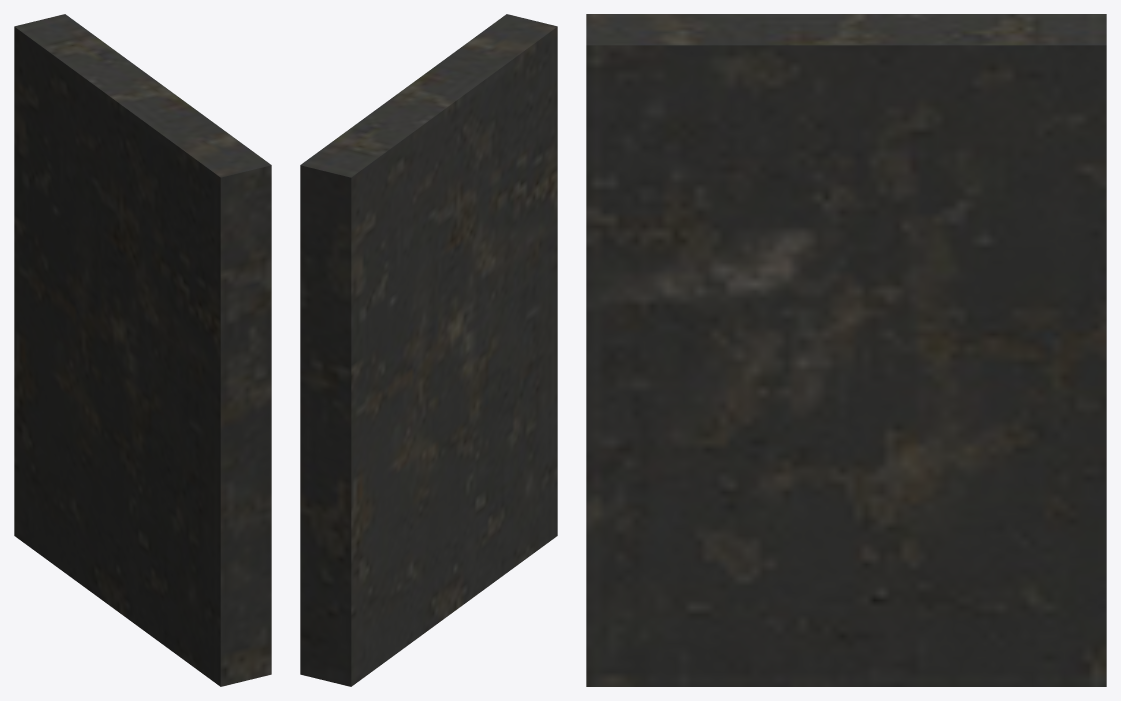
Rendered from RoofWall_02.FBX.
The picture shows the model from 3 angles, left to right: view 1: azimuth 30°, elevation 25°; view 2: azimuth 150°, elevation 25°; view 3: azimuth 270°, elevation 25°; orthographic projection. The views are drawn at different scales.
Parts seen in each view (by area): view 1: RoofWall_02; view 2: RoofWall_02; view 3: RoofWall_02.
Boxes of the visible parts, x1,y1,x2,y2 form: RoofWall_02: [14, 14, 271, 686]; RoofWall_02: [300, 14, 557, 686]; RoofWall_02: [586, 14, 1106, 686].
Bounding box in the file's own units: 53.61 × 511 × 376.
